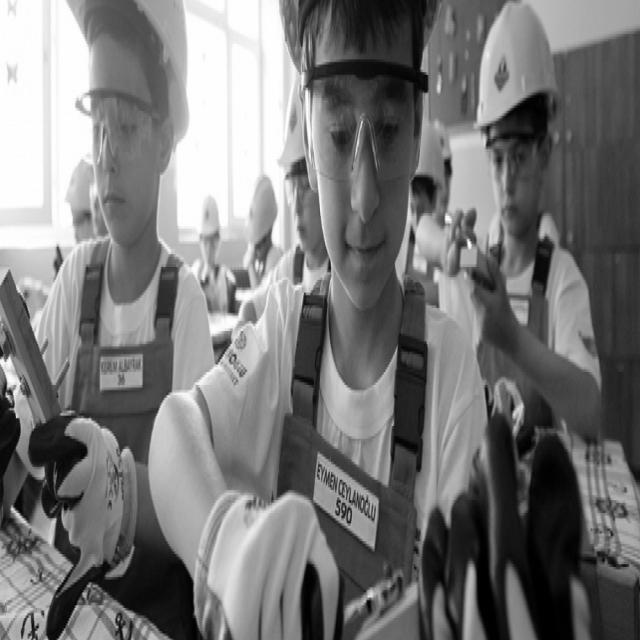safety_helmet: (73, 0, 244, 217), (476, 2, 560, 138)
